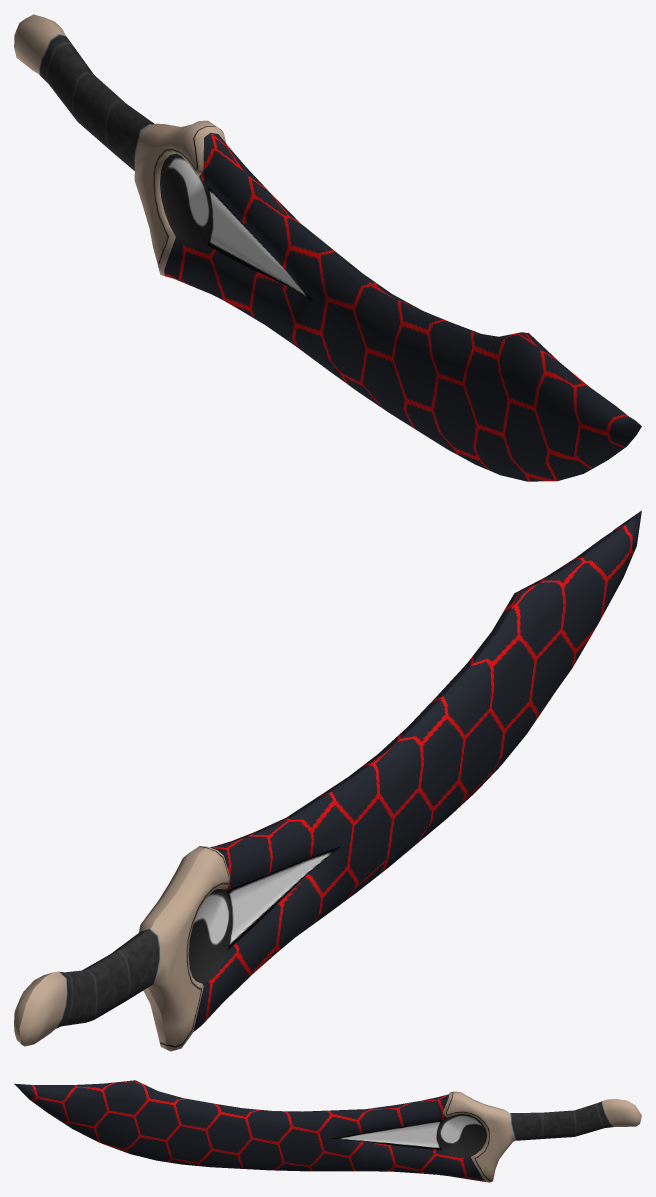
File: Kansyo.fbx
3 renders of one model, top to bottom at view 1: azimuth 30°, elevation 25°; view 2: azimuth 150°, elevation 25°; view 3: azimuth 270°, elevation 25°, orthographic. The views are drawn at different scales.
Parts seen in each view (by area): view 1: Blade; view 2: Blade; view 3: Blade.
Part boxes in pixels (x1,y1,x2,y2): Blade: (14, 14, 641, 481); Blade: (14, 510, 641, 1051); Blade: (14, 1080, 641, 1182).
Size of the model in its own units: 5.56 by 31.88 by 178.
3 materials, 3 textured.
